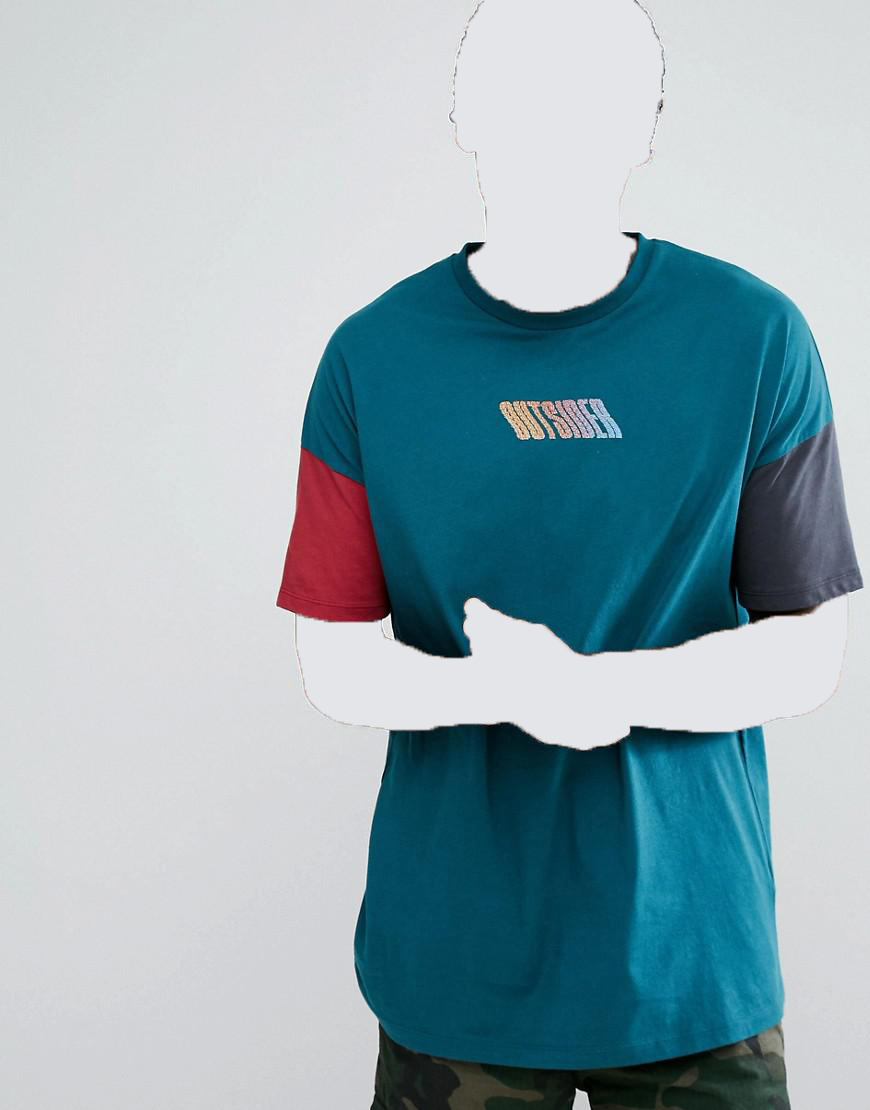teeshirt: (262, 229, 864, 1068)
